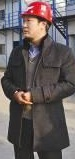hard-hat: (19, 1, 52, 23)
